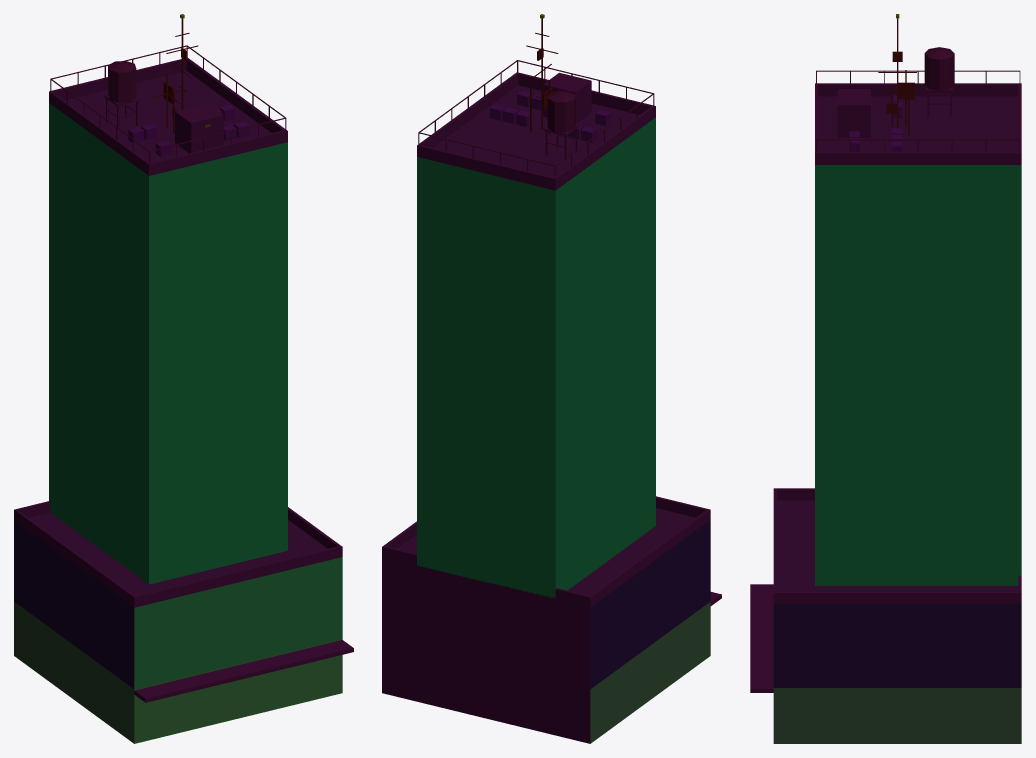
File: midrise_b.glb
The picture shows the model from 3 angles, left to right: view 1: azimuth 30°, elevation 25°; view 2: azimuth 150°, elevation 25°; view 3: azimuth 270°, elevation 25°; orthographic projection. The views are drawn at different scales.
Parts seen in each view (by area): view 1: midrise_b; view 2: midrise_b; view 3: midrise_b.
Part boxes in pixels (x1,y1,x2,y2): midrise_b: (14,14,353,743); midrise_b: (382,14,721,743); midrise_b: (750,14,1021,743).
Bounding box in the file's own units: 19.2 × 58.03 × 21.
